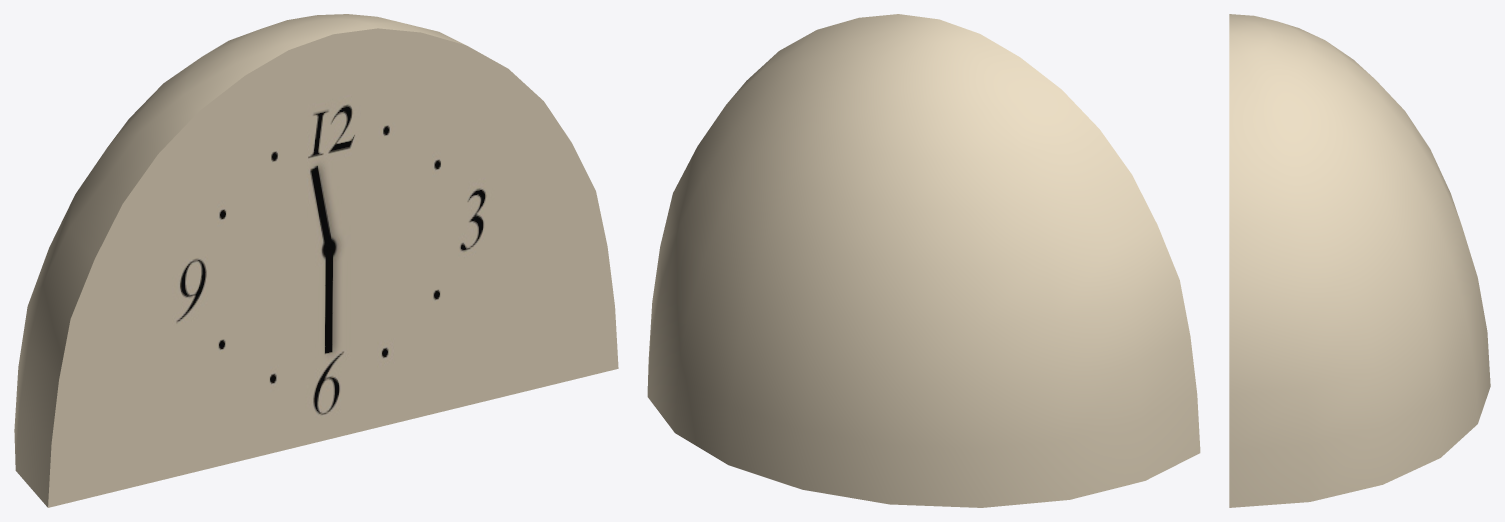
Rendered from clock.fbx.
3 renders of one model, left to right at view 1: azimuth 30°, elevation 25°; view 2: azimuth 150°, elevation 25°; view 3: azimuth 270°, elevation 25°, orthographic. The views are drawn at different scales.
Parts seen in each view (by area): view 1: pSphere1; view 2: pSphere1; view 3: pSphere1.
Part boxes in pixels (x1=…): pSphere1: x1=14, y1=14, x2=618, y2=507; pSphere1: x1=647, y1=14, x2=1200, y2=507; pSphere1: x1=1229, y1=14, x2=1490, y2=507.
Bounding box in the file's own units: 2.34 × 1.58 × 1.06.
